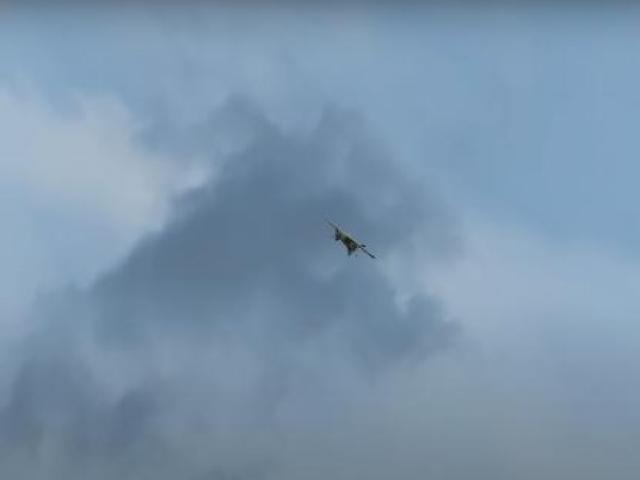uav: (323, 212, 379, 268)
